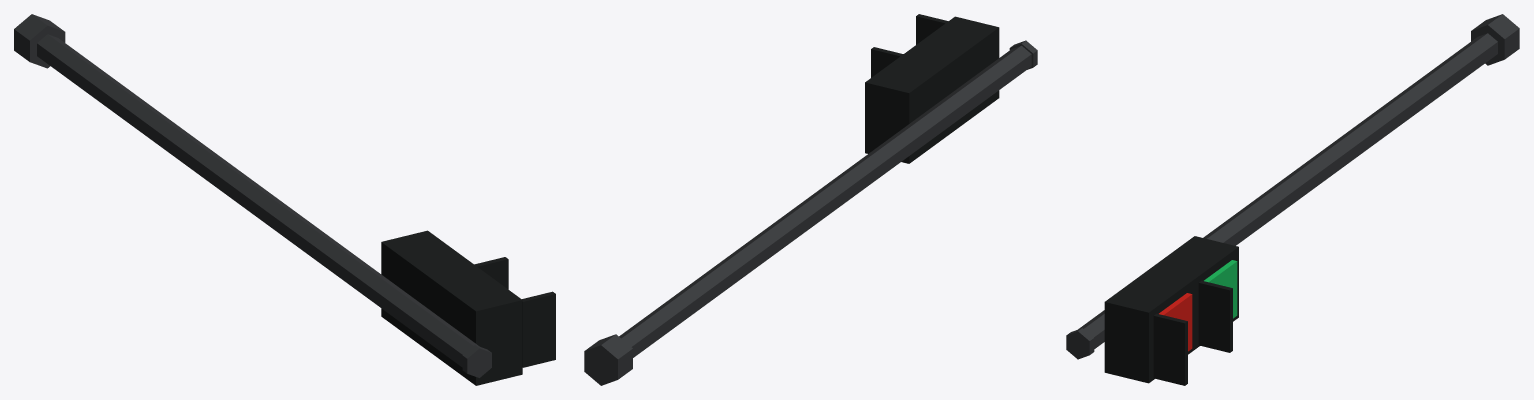
Rendered from ped-signal.glb.
The picture shows the model from 3 angles, left to right: view 1: azimuth 30°, elevation 25°; view 2: azimuth 150°, elevation 25°; view 3: azimuth 330°, elevation 25°; orthographic projection. The views are drawn at different scales.
Parts seen in each view (by area): view 1: ped-signal; view 2: ped-signal; view 3: ped-signal.
Boxes of the visible parts, x1,y1,x2,y2 form: ped-signal: (14,14,555,385); ped-signal: (584,14,1037,385); ped-signal: (1066,14,1519,385).
Size of the model in its own units: 0.41 by 0.26 by 2.83.
